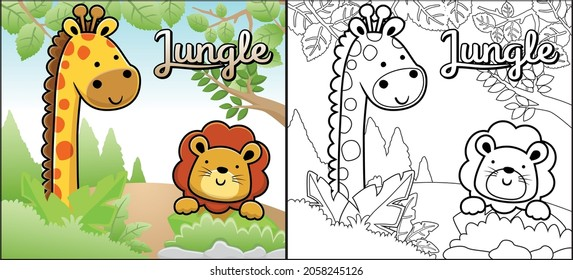animal: (307, 12, 418, 225), (37, 8, 145, 184), (171, 119, 275, 226), (455, 126, 559, 221)
tree: (483, 70, 573, 125), (195, 69, 280, 120)
